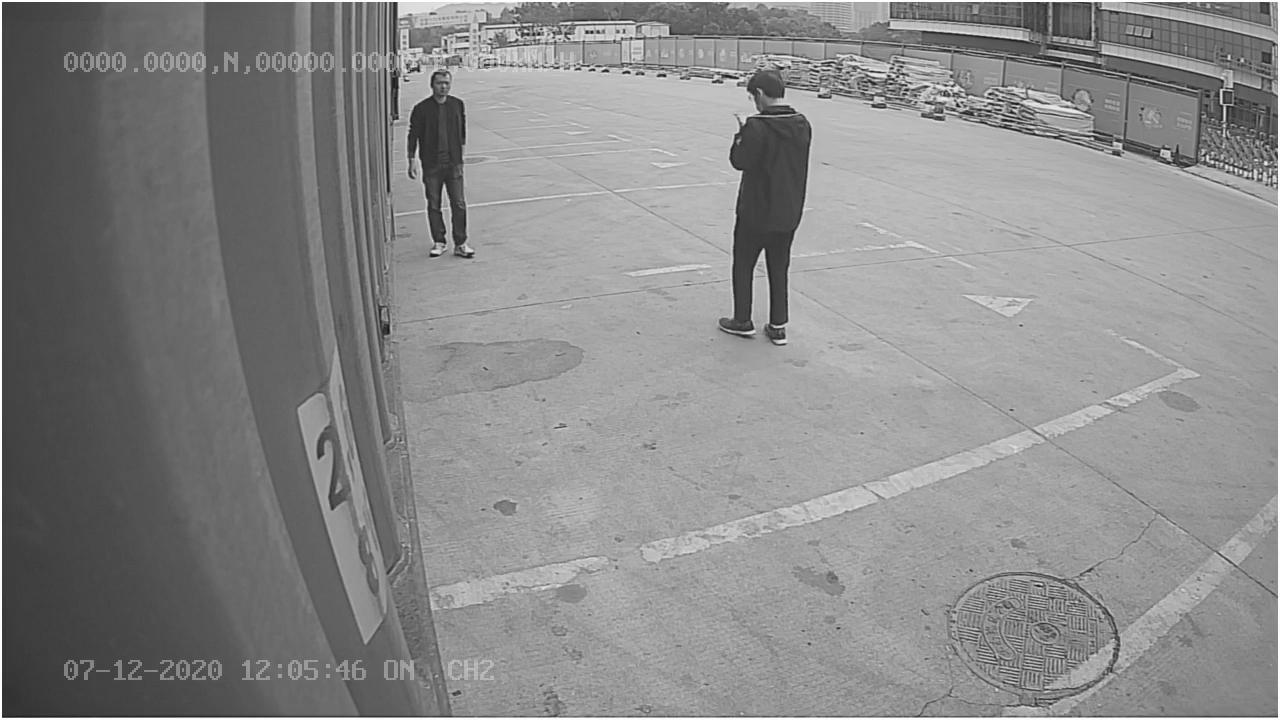person: (713, 67, 814, 352)
